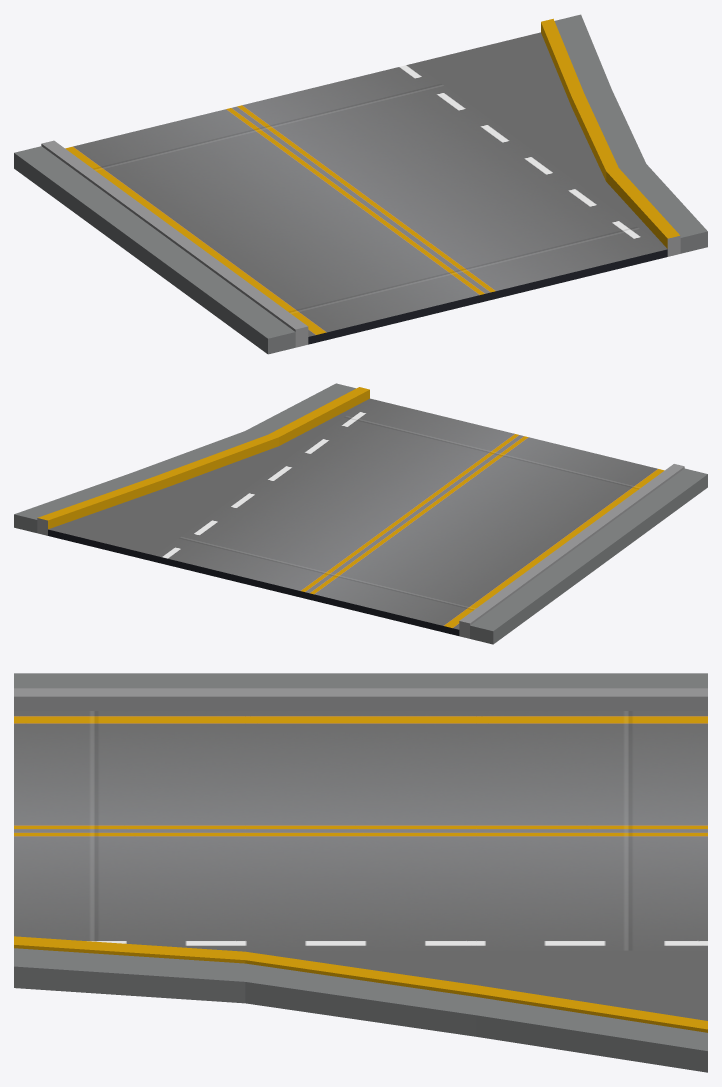
Rendered from Road4_Shoulder_Narrower.fbx.
3 views of the same model, one above another, from view 1: azimuth 30°, elevation 25°; view 2: azimuth 150°, elevation 25°; view 3: azimuth 270°, elevation 25° (orthographic). The views are drawn at different scales.
Visible parts, largest first — view 1: Road4_Shoulder_Narrower; view 2: Road4_Shoulder_Narrower; view 3: Road4_Shoulder_Narrower.
Boxes of the visible parts, x1=… form: Road4_Shoulder_Narrower: x1=14, y1=14, x2=707, y2=354; Road4_Shoulder_Narrower: x1=14, y1=383, x2=707, y2=644; Road4_Shoulder_Narrower: x1=14, y1=673, x2=707, y2=1072.
Size of the model in its own units: 15.47 by 0.4753 by 12.
